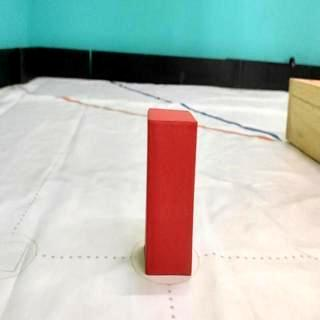redbox: (146, 108, 198, 275)
